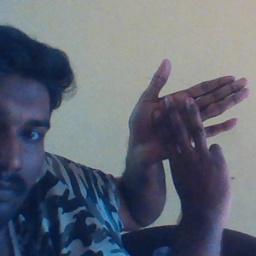M: (127, 58, 250, 211)
